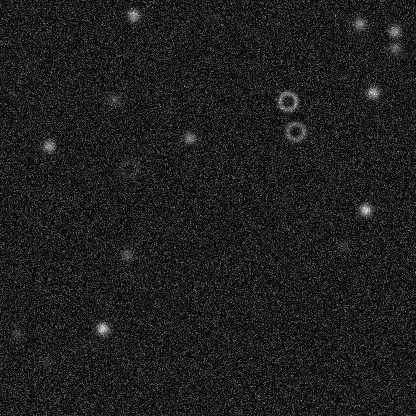Ring: (283, 119, 307, 143), (116, 155, 140, 179), (275, 89, 299, 113)
Spot: (40, 137, 56, 153), (351, 15, 367, 31), (119, 246, 135, 262), (39, 352, 55, 368), (8, 325, 24, 341), (387, 40, 403, 56), (125, 7, 141, 23), (105, 91, 121, 107), (335, 237, 351, 253), (181, 129, 197, 145), (386, 23, 402, 39), (357, 201, 373, 217), (94, 320, 110, 336), (365, 84, 381, 100)
